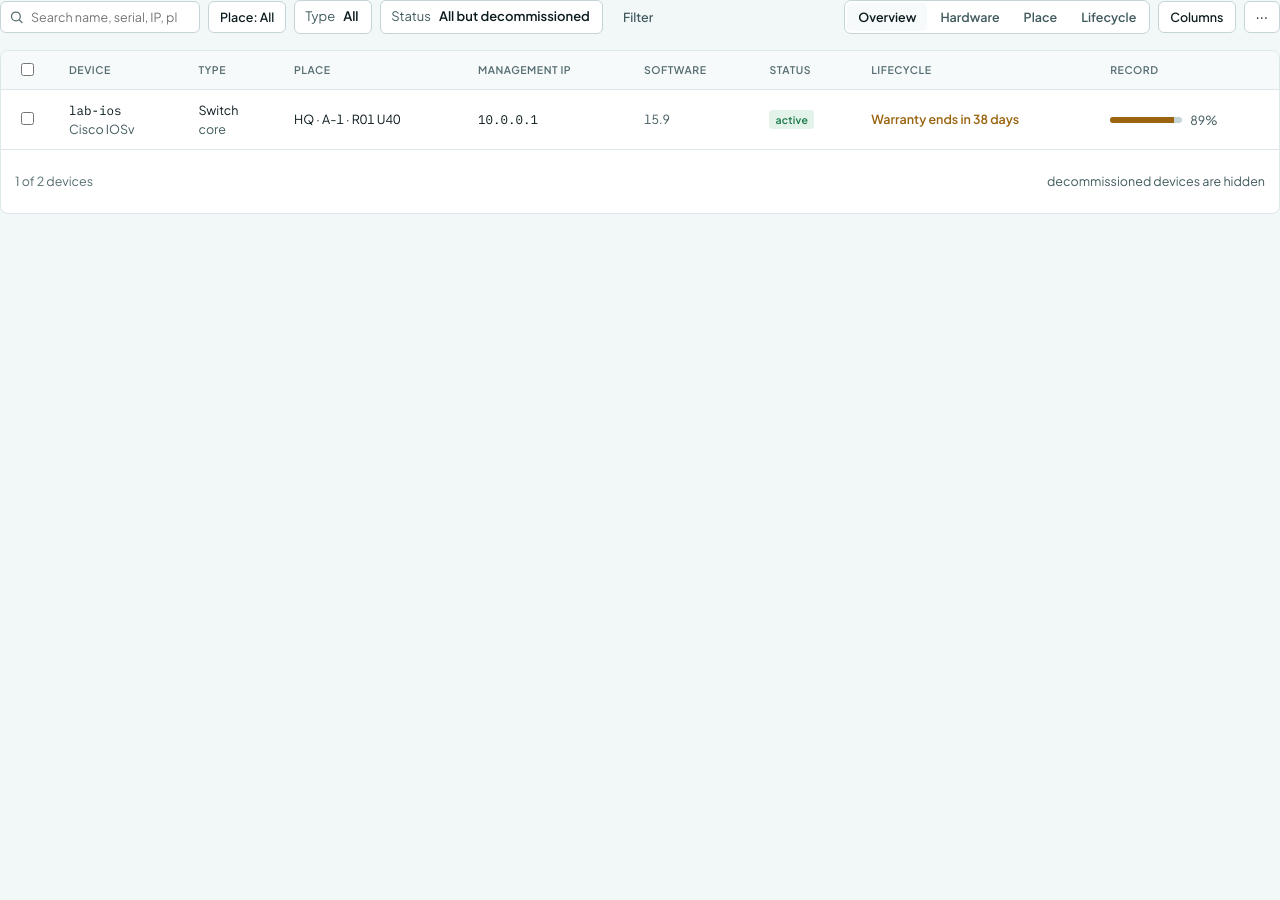
Scenario: DevicesPanel › swaps the toolbar for the bulk bar when rows are selected
The width and height of the screenshot is (1280, 900).
Expected: the text "lab-ios" is shown, [69,101,122,120]
Click the checkbox named "Select lab-ios" at (28, 119), box [21,112,34,125]
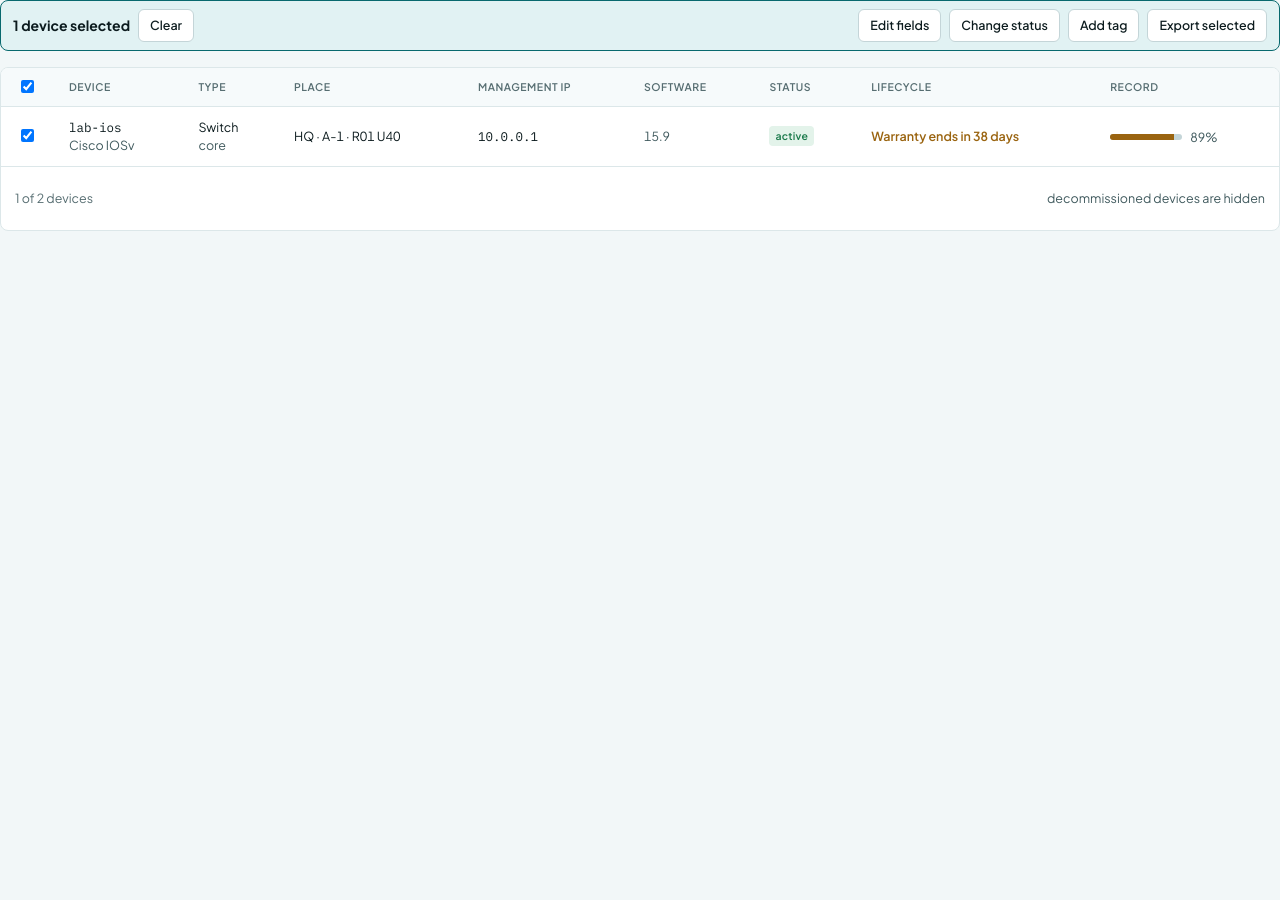
Now the text "1 device selected" is shown, box [13,15,130,36]
Click the button "Edit fields" at (900, 25), box [858,9,941,42]
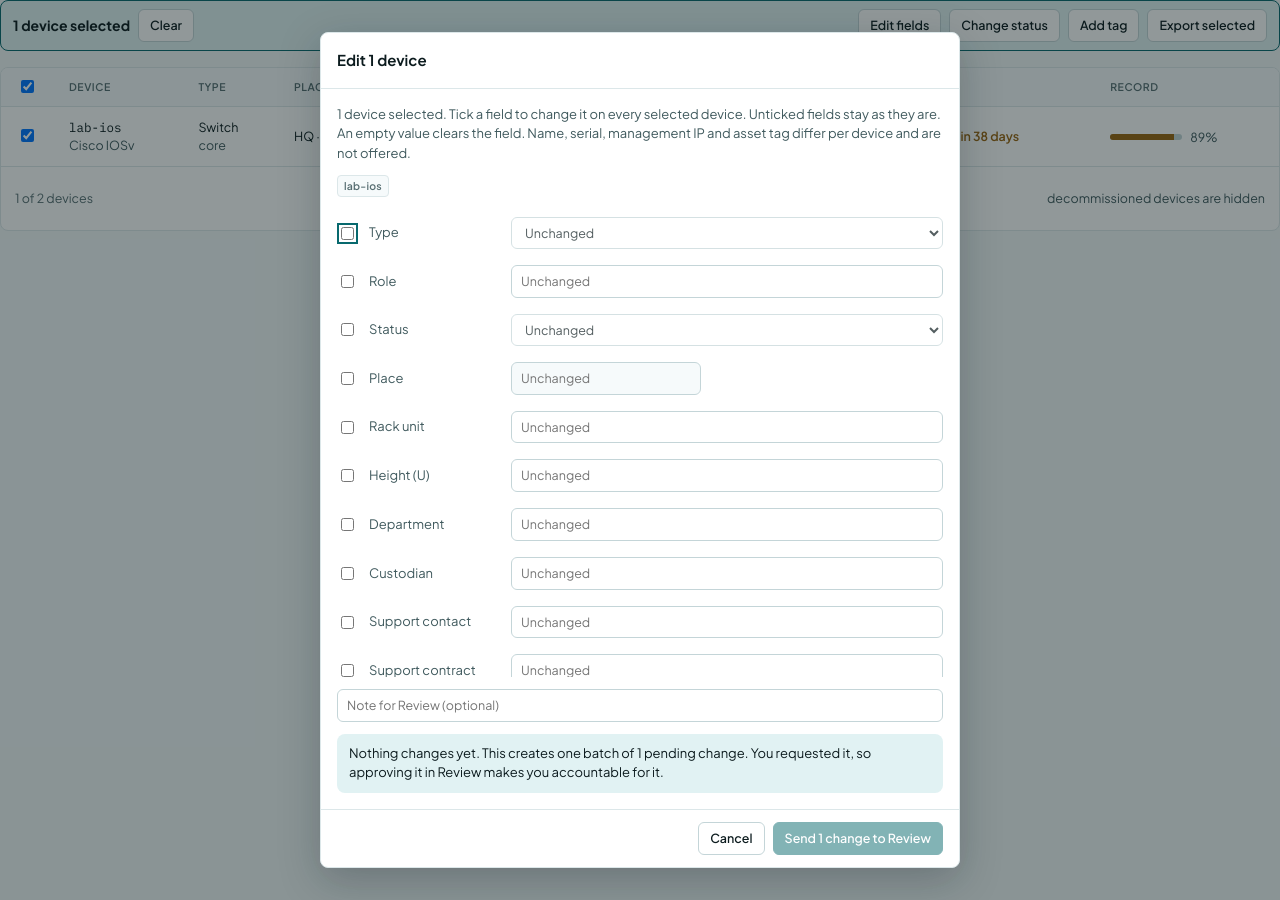
Now the dialog "Edit 1 device" is shown, box [320,32,960,868]
Click the button "Cancel" at (731, 838), box [698,822,764,855]
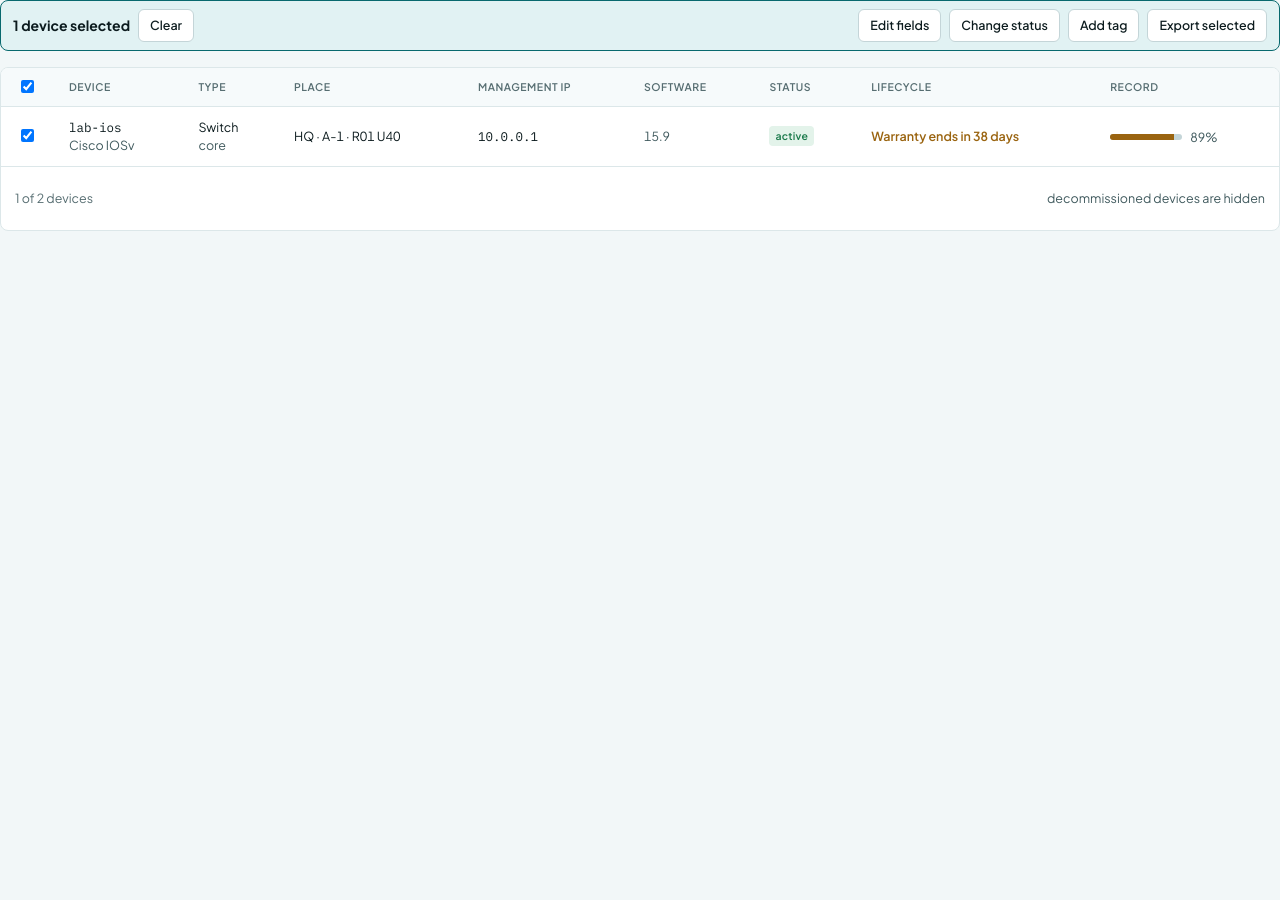
Click the button "Clear" at (166, 25), box [138,9,194,42]
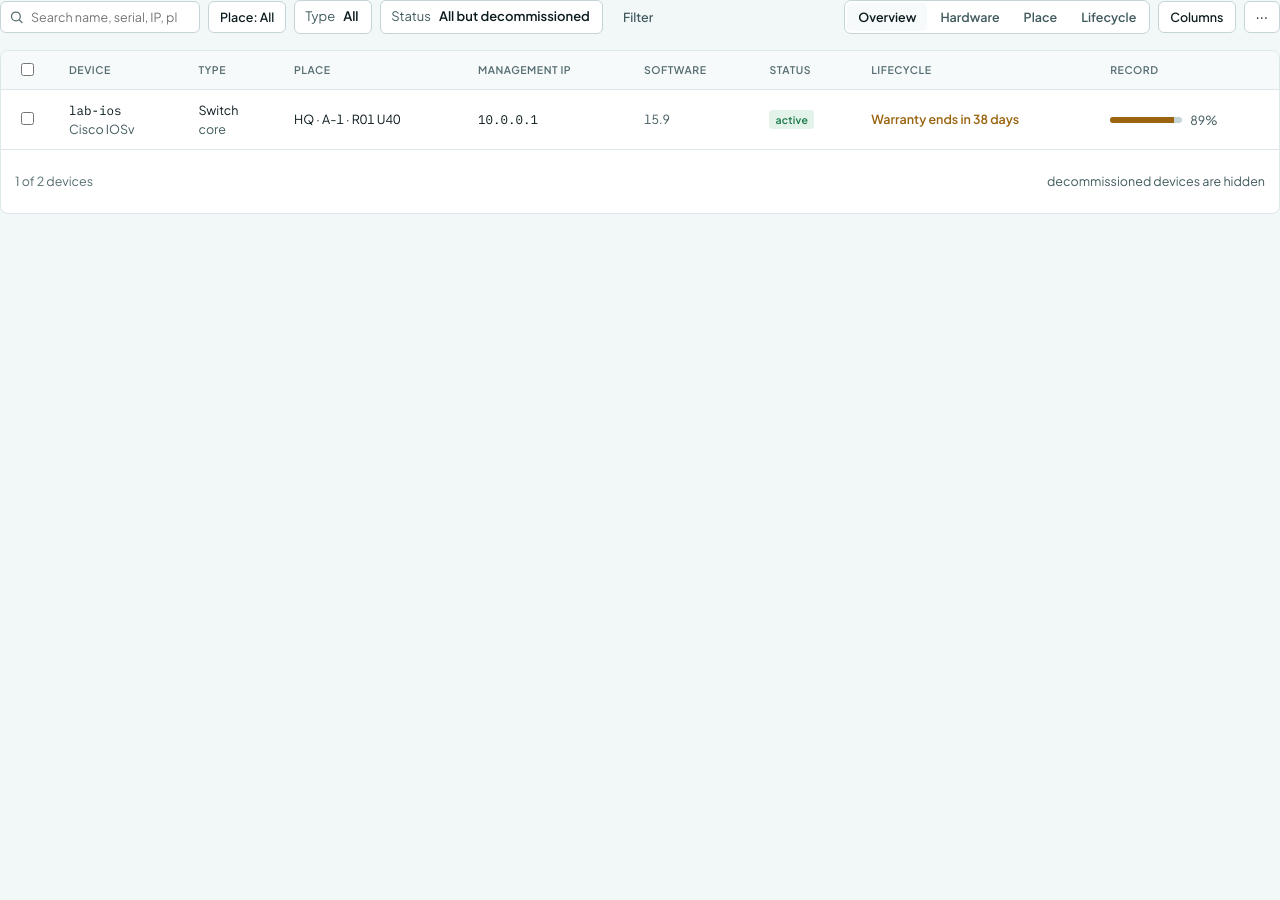
Now the search field named "Search devices" is shown, box [0,1,200,33]
